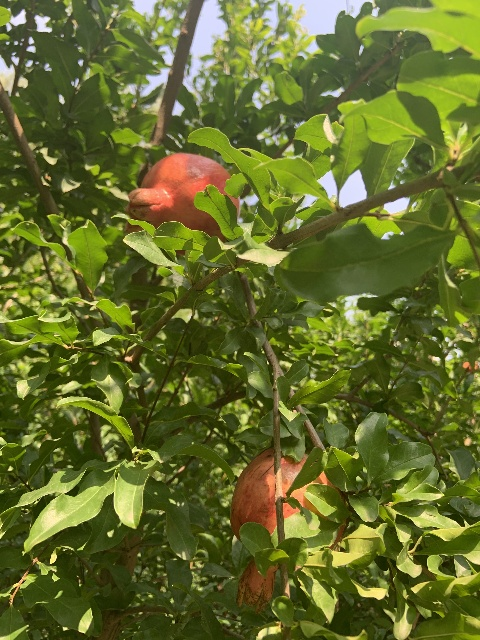ripe: (230, 448, 346, 615), (126, 153, 242, 255)
